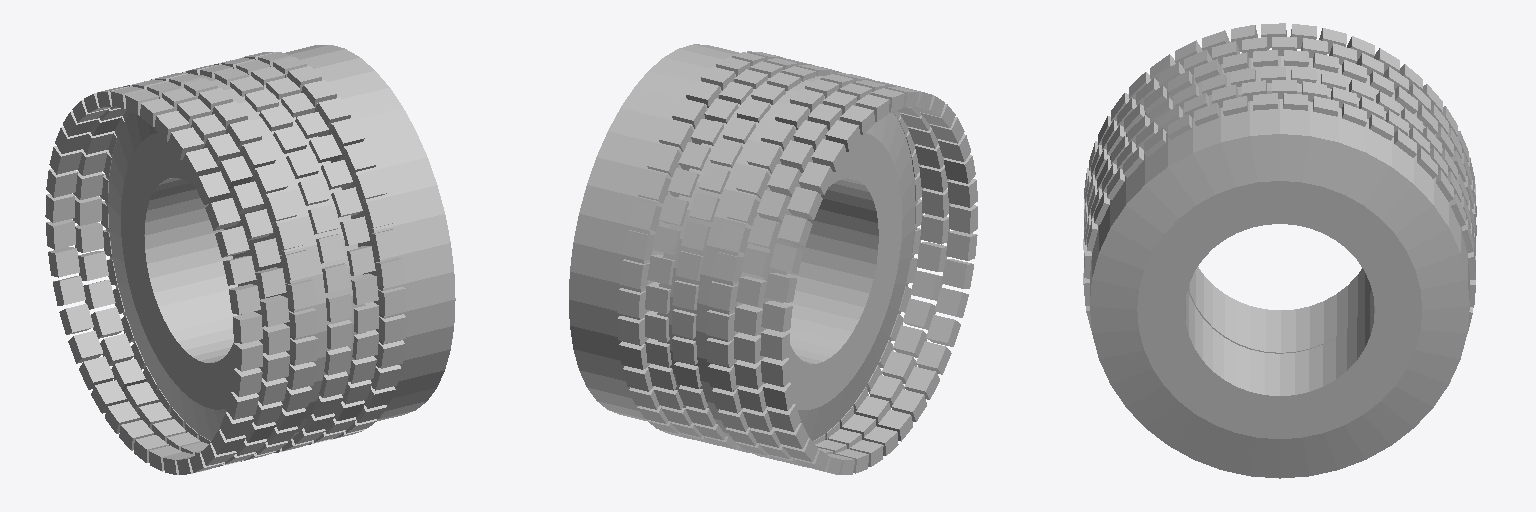
The model's file is ruoteR1A.obj.
3 views of the same model, side by side, from view 1: azimuth 30°, elevation 25°; view 2: azimuth 150°, elevation 25°; view 3: azimuth 270°, elevation 25° (orthographic).
Parts seen in each view (by area): view 1: Box1185, Tube23, Box1184.001, Tube24; view 2: Box1185, Tube23, Box1184.001, Tube24; view 3: Tube24, Box1184.001, Box1185, Tube23.
Boxes of the visible parts, x1=… form: Box1185: x1=45, y1=73, x2=317, y2=474; Tube23: x1=105, y1=75, x2=365, y2=440; Box1184.001: x1=182, y1=52, x2=406, y2=452; Tube24: x1=285, y1=45, x2=455, y2=420; Box1185: x1=706, y1=73, x2=977, y2=474; Tube23: x1=657, y1=76, x2=917, y2=441; Box1184.001: x1=617, y1=51, x2=841, y2=452; Tube24: x1=569, y1=44, x2=750, y2=420; Tube24: x1=1090, y1=99, x2=1469, y2=478; Box1184.001: x1=1083, y1=67, x2=1475, y2=330; Box1185: x1=1084, y1=23, x2=1476, y2=235; Tube23: x1=1110, y1=56, x2=1451, y2=353.
Size of the model in its own units: 7.77 by 11.78 by 11.78.